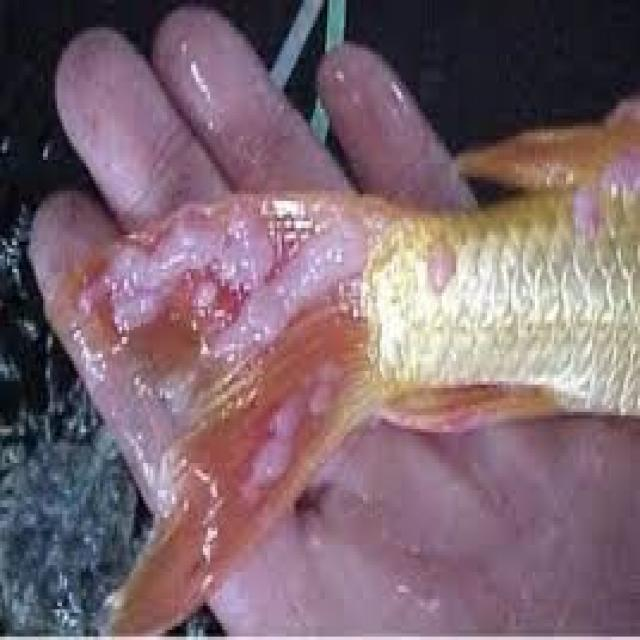EUS Disease: (69, 110, 640, 640)
